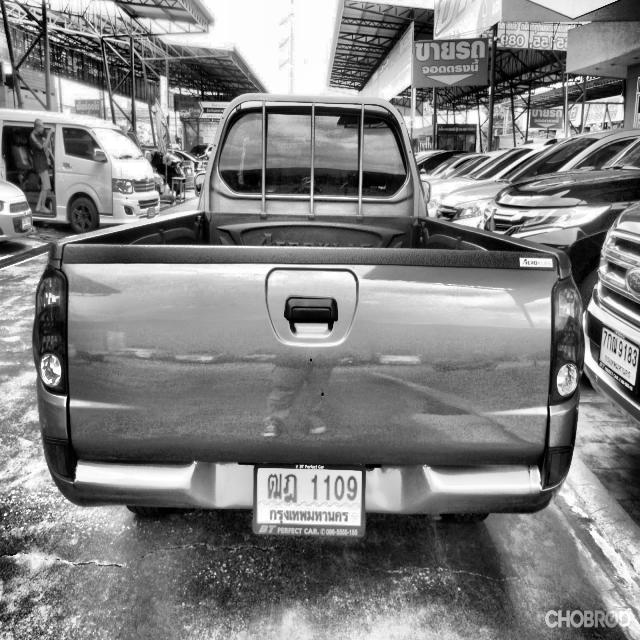license-plate: (254, 464, 367, 541), (600, 322, 640, 394), (20, 214, 34, 232), (146, 206, 158, 220)
